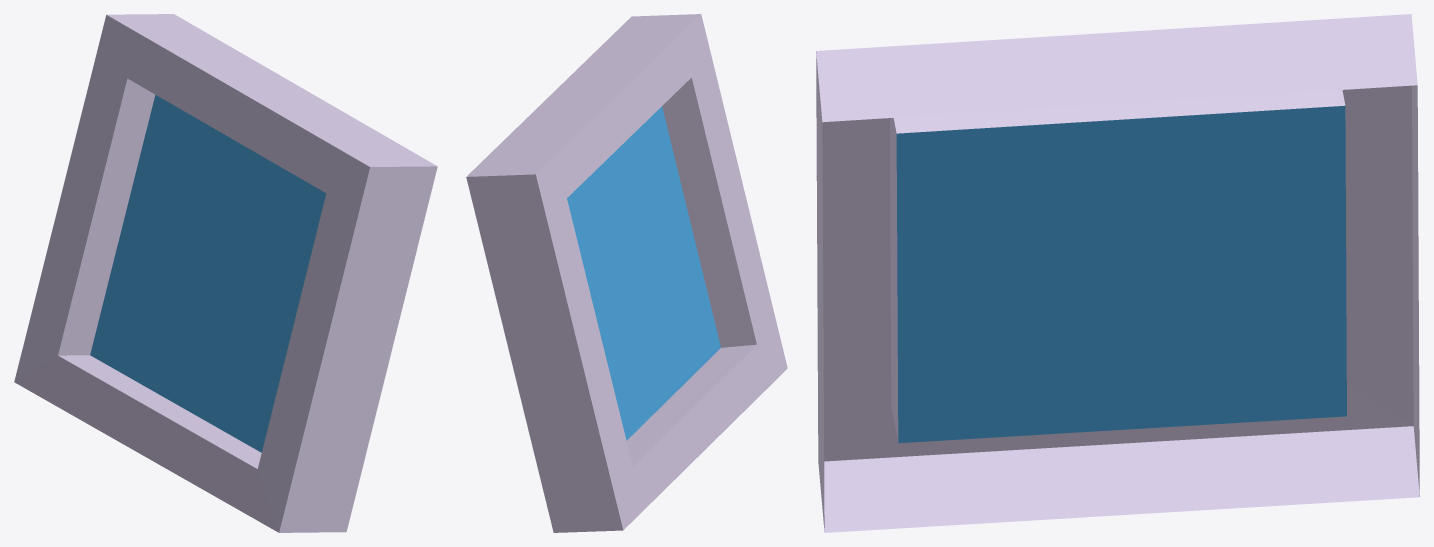
The model's file is plane_window.fbx.
The picture shows the model from 3 angles, left to right: view 1: azimuth 30°, elevation 25°; view 2: azimuth 150°, elevation 25°; view 3: azimuth 270°, elevation 25°; orthographic projection. The views are drawn at different scales.
Visible parts, largest first — view 1: polySurface6; view 2: polySurface6; view 3: polySurface6.
Part boxes in pixels (left/top/right/bottom): polySurface6: left=14, top=14, right=437, bottom=532; polySurface6: left=466, top=14, right=787, bottom=532; polySurface6: left=816, top=14, right=1419, bottom=532.
Bounding box in the file's own units: 4.53 × 7.66 × 8.35.
